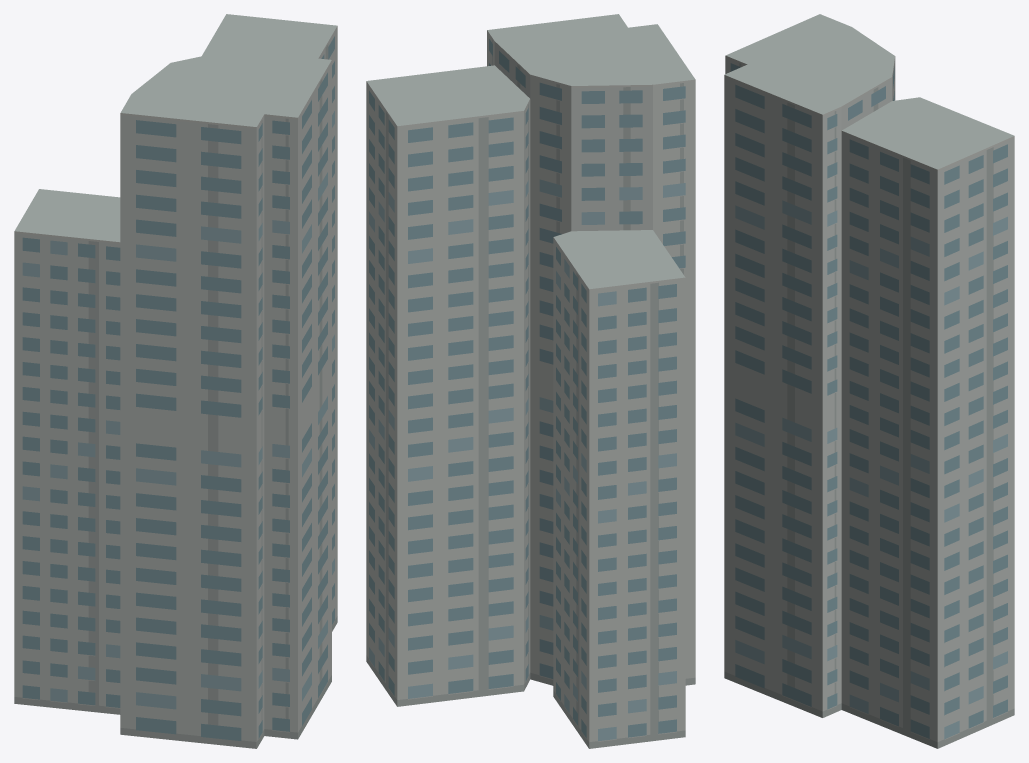
The model's file is residential-5beaab64-b1b1-4fcf-a569-d2b5025ee442.glb.
3 views of the same model, side by side, from view 1: azimuth 30°, elevation 25°; view 2: azimuth 150°, elevation 25°; view 3: azimuth 270°, elevation 25° (orthographic). The views are drawn at different scales.
Parts seen in each view (by area): view 1: residential-5beaab64-b1b1-4fcf-a569-d2b5025ee442.tmp; view 2: residential-5beaab64-b1b1-4fcf-a569-d2b5025ee442.tmp; view 3: residential-5beaab64-b1b1-4fcf-a569-d2b5025ee442.tmp.
Part boxes in pixels (x1,y1,x2,y2): residential-5beaab64-b1b1-4fcf-a569-d2b5025ee442.tmp: (14, 14, 337, 748); residential-5beaab64-b1b1-4fcf-a569-d2b5025ee442.tmp: (366, 14, 695, 748); residential-5beaab64-b1b1-4fcf-a569-d2b5025ee442.tmp: (724, 14, 1014, 748).
Bounding box in the file's own units: 41.8 × 76.25 × 33.28.
